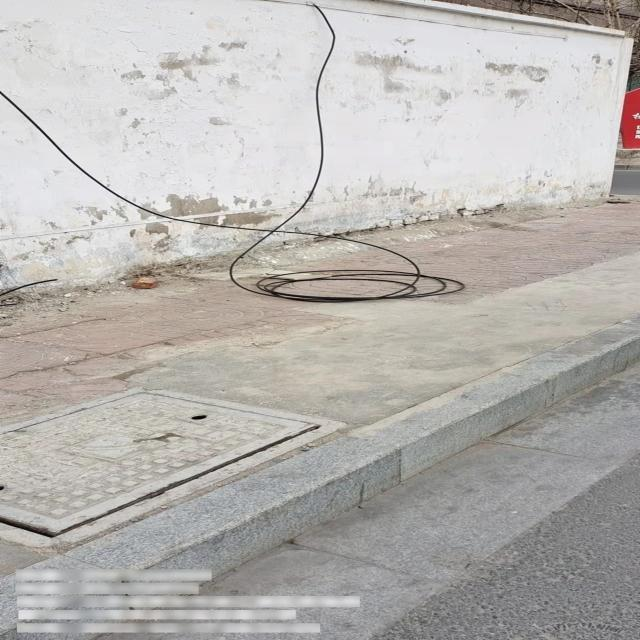Good: (0, 386, 346, 546)
